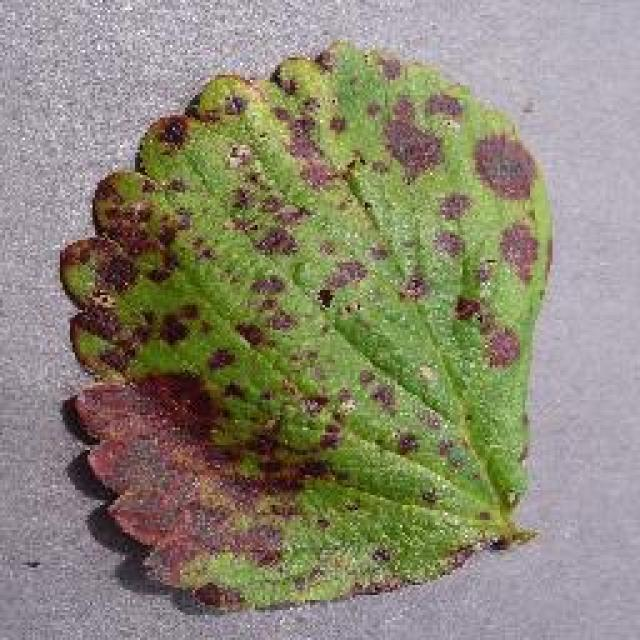Strawberry leaf scorch: (100, 155, 503, 540)
